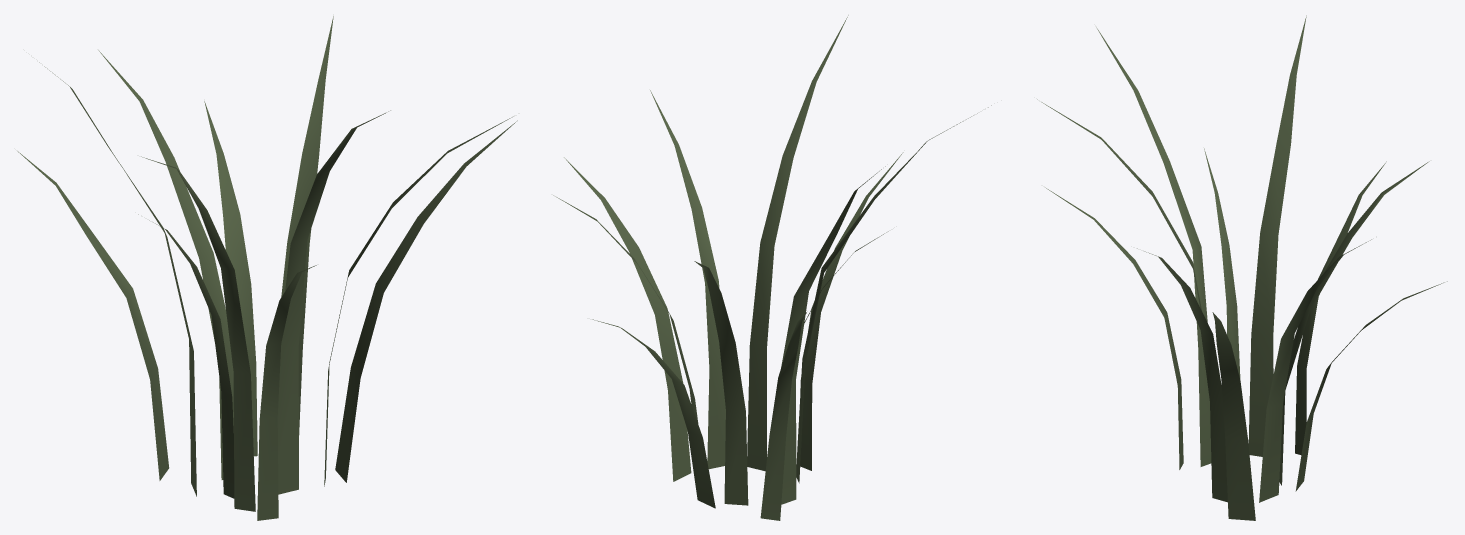
File: Grass1.fbx
The picture shows the model from 3 angles, left to right: view 1: azimuth 30°, elevation 25°; view 2: azimuth 150°, elevation 25°; view 3: azimuth 270°, elevation 25°; orthographic projection. The views are drawn at different scales.
Parts seen in each view (by area): view 1: Plane.031; view 2: Plane.031; view 3: Plane.031.
Part boxes in pixels (x1,y1,x2,y2): Plane.031: (17, 16, 517, 520); Plane.031: (553, 15, 991, 520); Plane.031: (1037, 15, 1447, 520).
Bounding box in the file's own units: 94.04 × 94.42 × 90.69.
